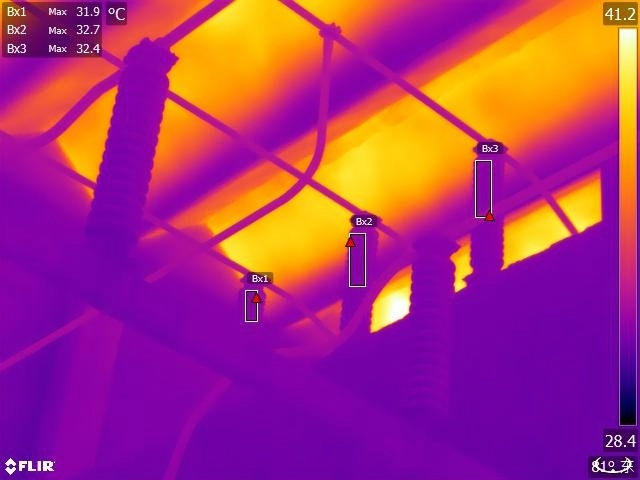clamp: (307, 6, 345, 53)
post insulator: (77, 36, 179, 244), (390, 226, 463, 421), (333, 209, 385, 364), (467, 131, 510, 277), (231, 271, 267, 353)
